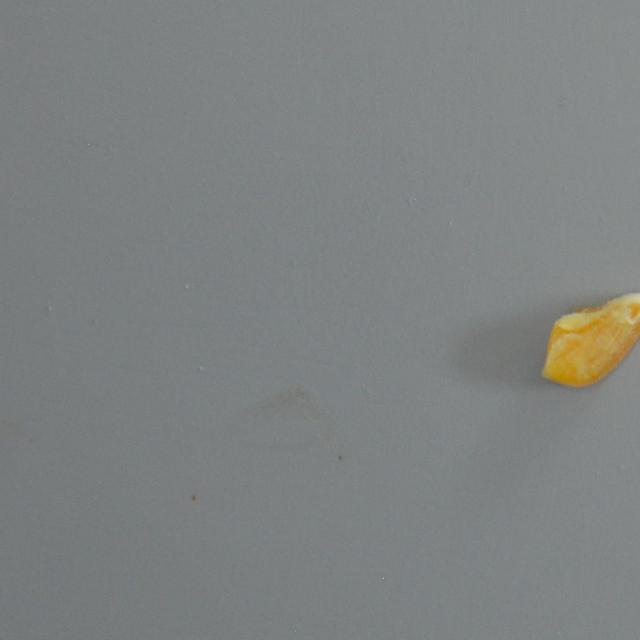dañado: (538, 283, 640, 392)
